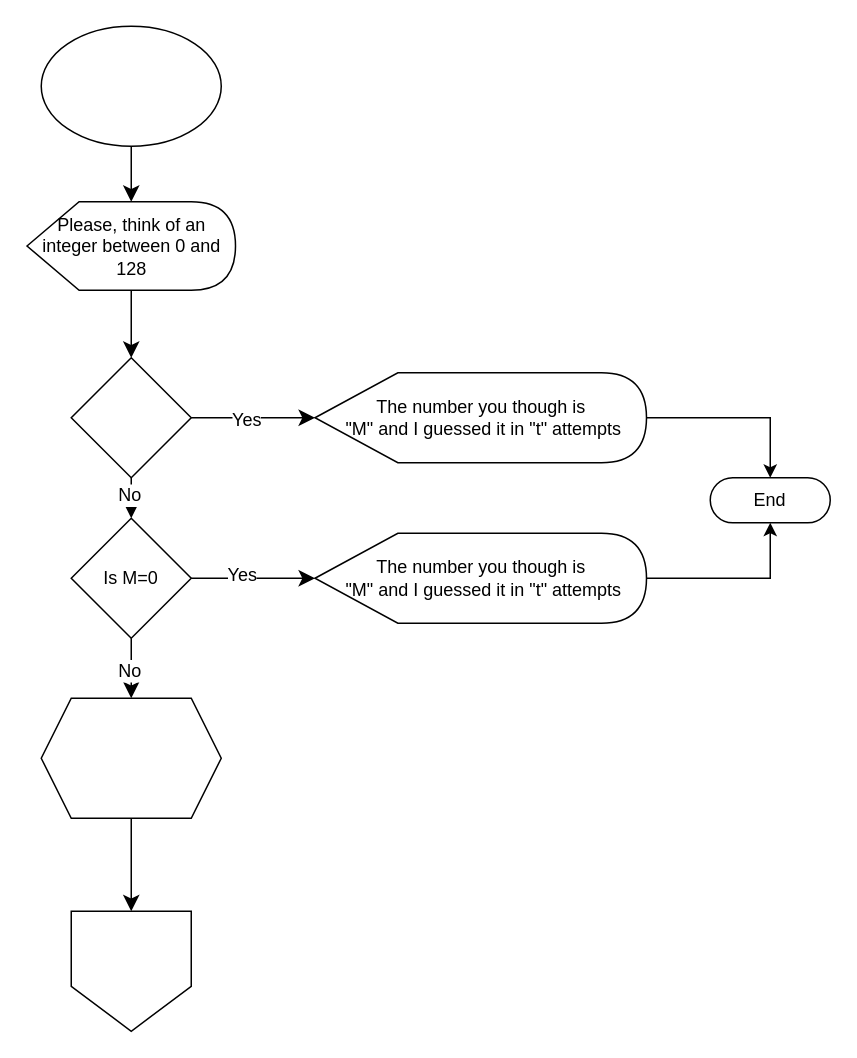
The diagram is 857 pixels wide and 1058 high, and some of its shapes have lost their labels. The shapes that lost their labels are listed below. From the top down, each one's centre as x and y in pixels, then its label:
the point at 130,85: Start
the point at 130,417: Is M=128?
the point at 130,757: a=0 , b=128 , t=2
